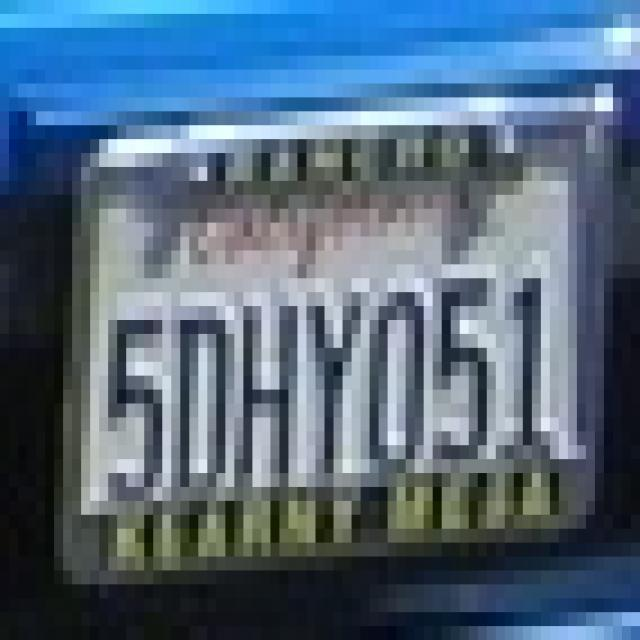licenseplate: (48, 99, 620, 572)
